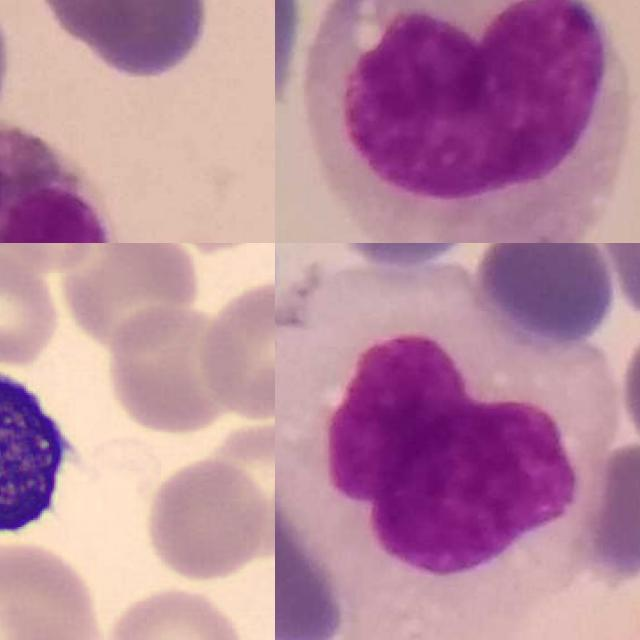Eosinophil: (0, 125, 119, 243)
Lymphocyte: (0, 355, 81, 544)
Monocyte: (275, 266, 619, 610), (307, 0, 635, 243)
RBC: (101, 302, 241, 436), (138, 455, 273, 585), (191, 273, 275, 424), (0, 534, 107, 640), (89, 581, 253, 640), (0, 250, 63, 370)
